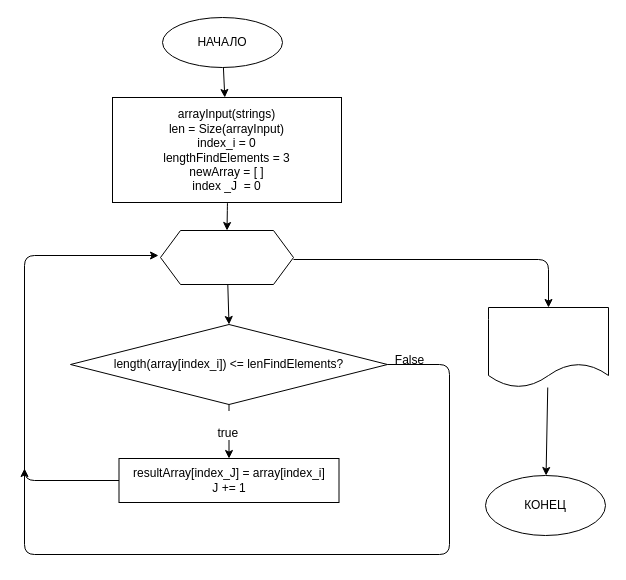
Image size: 626x580. Some labels were removed from this diagram. Each missing label, with the box of its shape:
index_i = 0 index_i < len index_i += 1: (160, 230, 294, 284)
resultArray: (488, 306, 608, 388)
